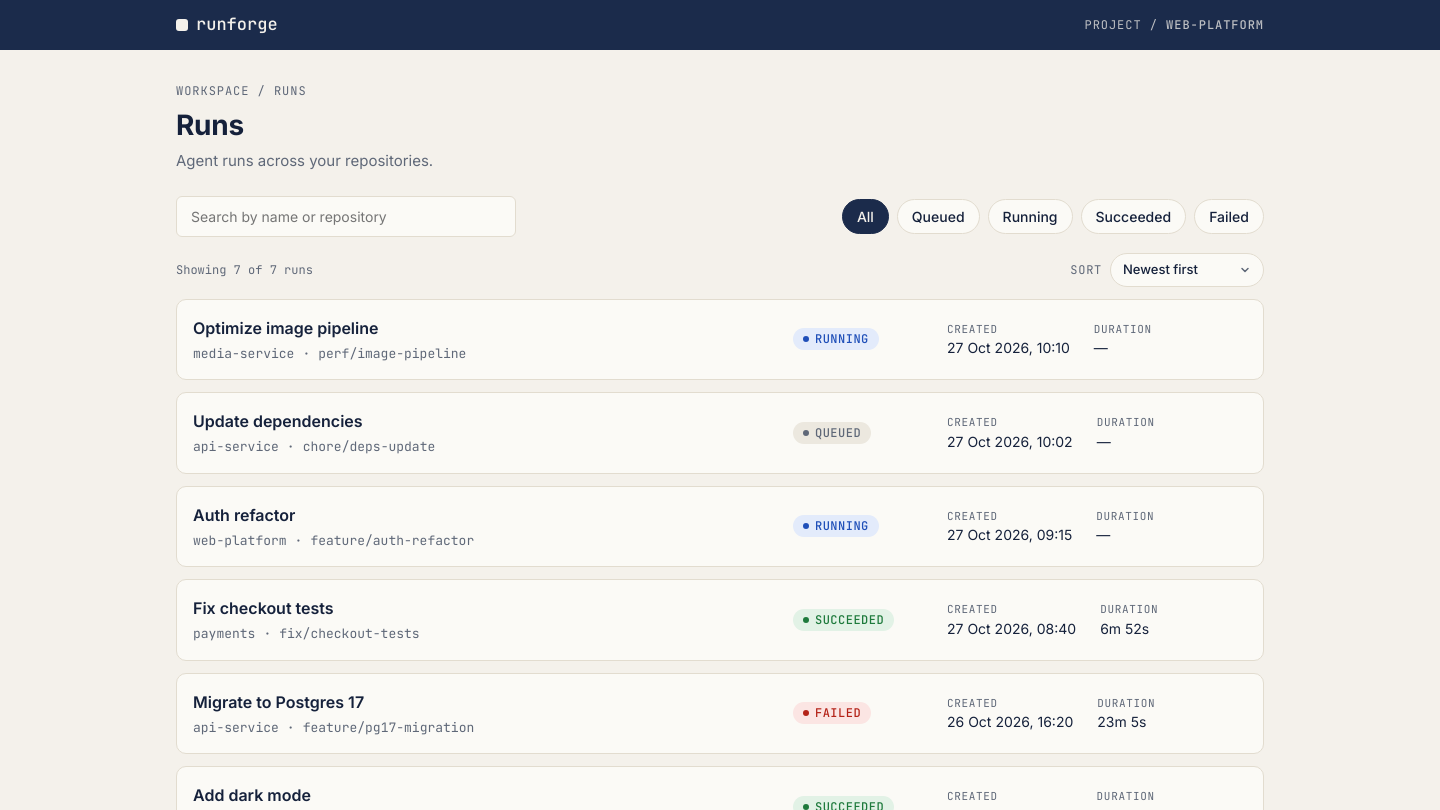
Runs page › combines search with status filter and shows empty state with reset
Expected: the link "Auth refactor" is shown, x1=193 y1=504 x2=295 y2=524
Click the button "Queued" at (938, 216), box x1=897 y1=199 x2=980 y2=234
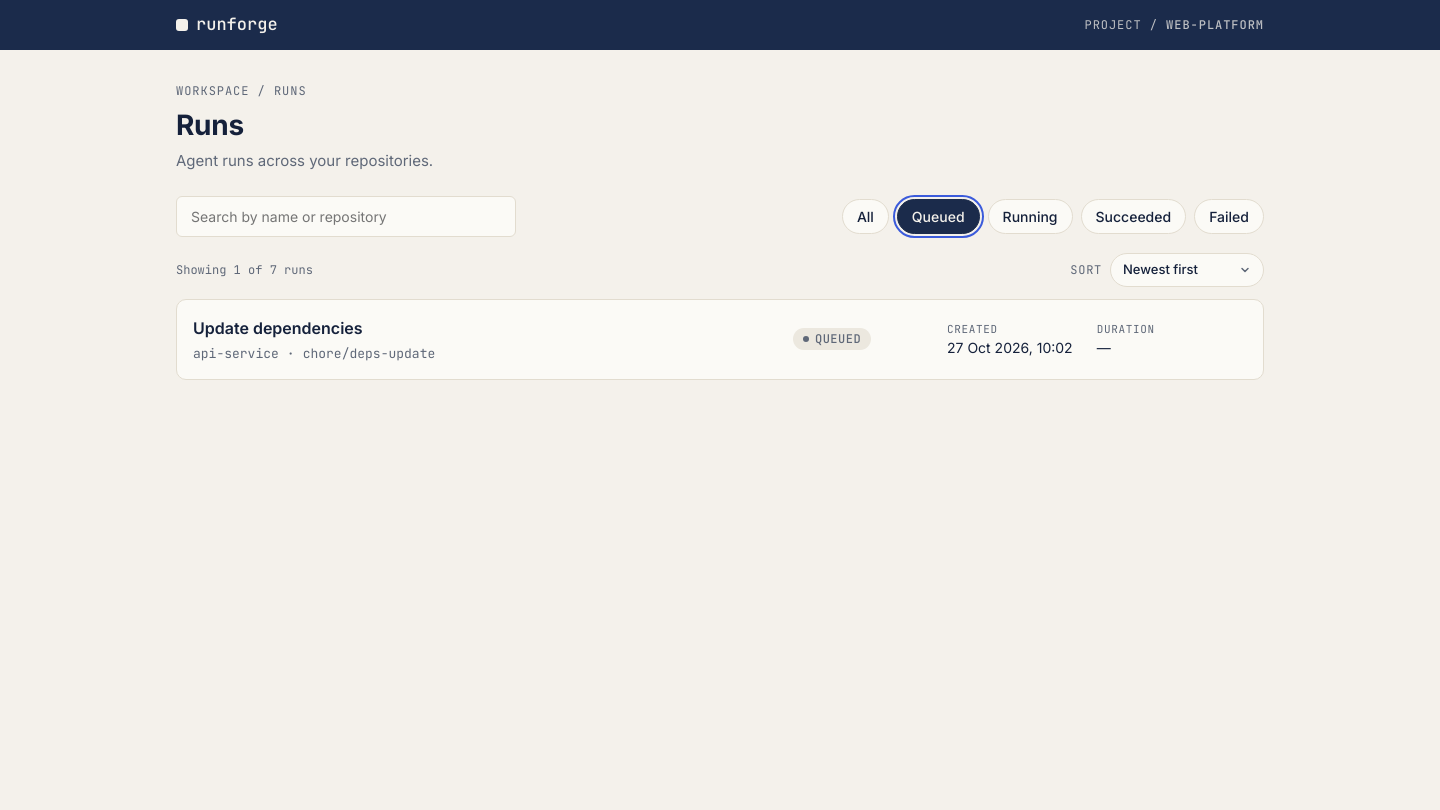
Type "payments" into the search field at (346, 216), box x1=176 y1=196 x2=516 y2=237
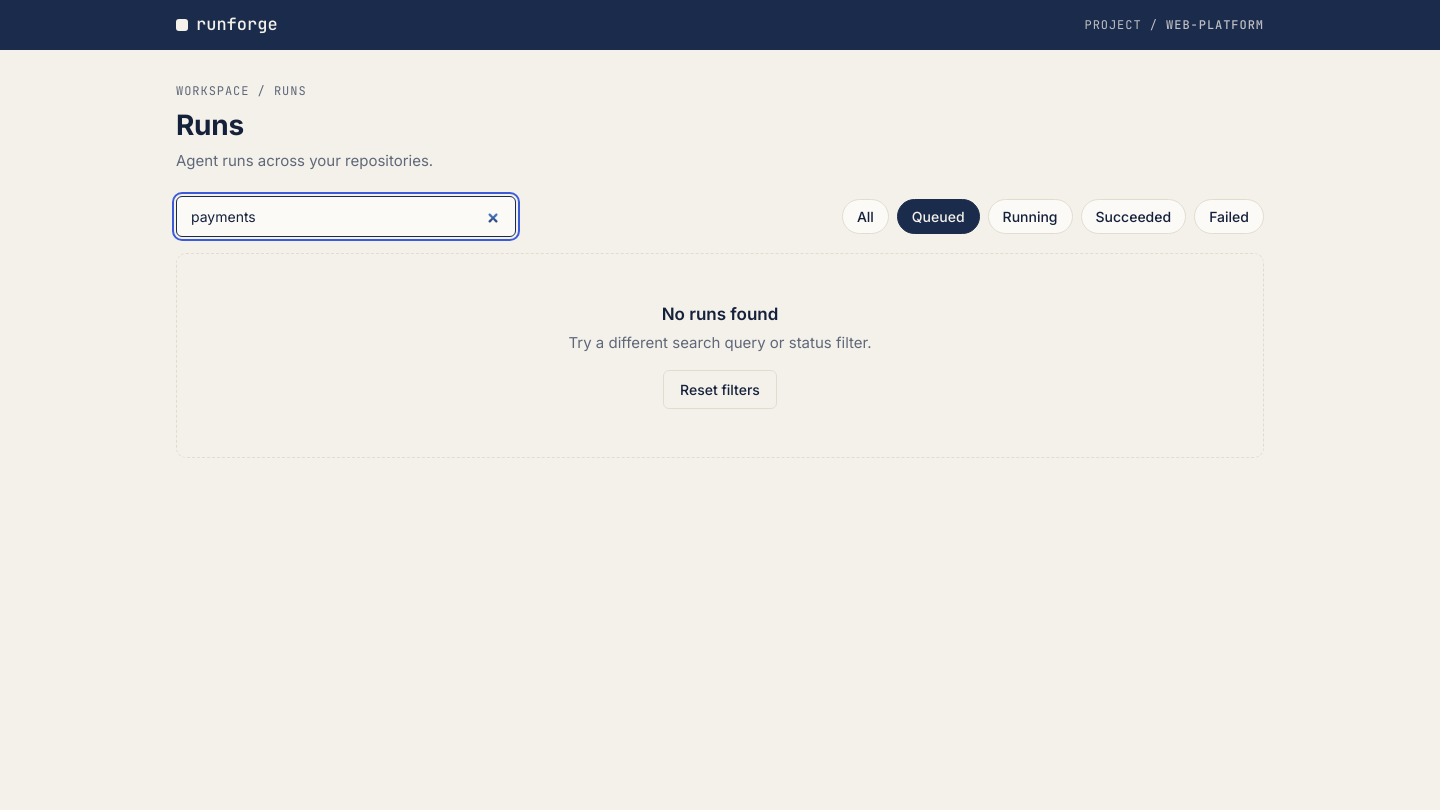
Expected: the text "No runs found" is shown, x1=662 y1=304 x2=778 y2=324
Click the button "Reset filters" at (720, 390), box x1=663 y1=370 x2=777 y2=409
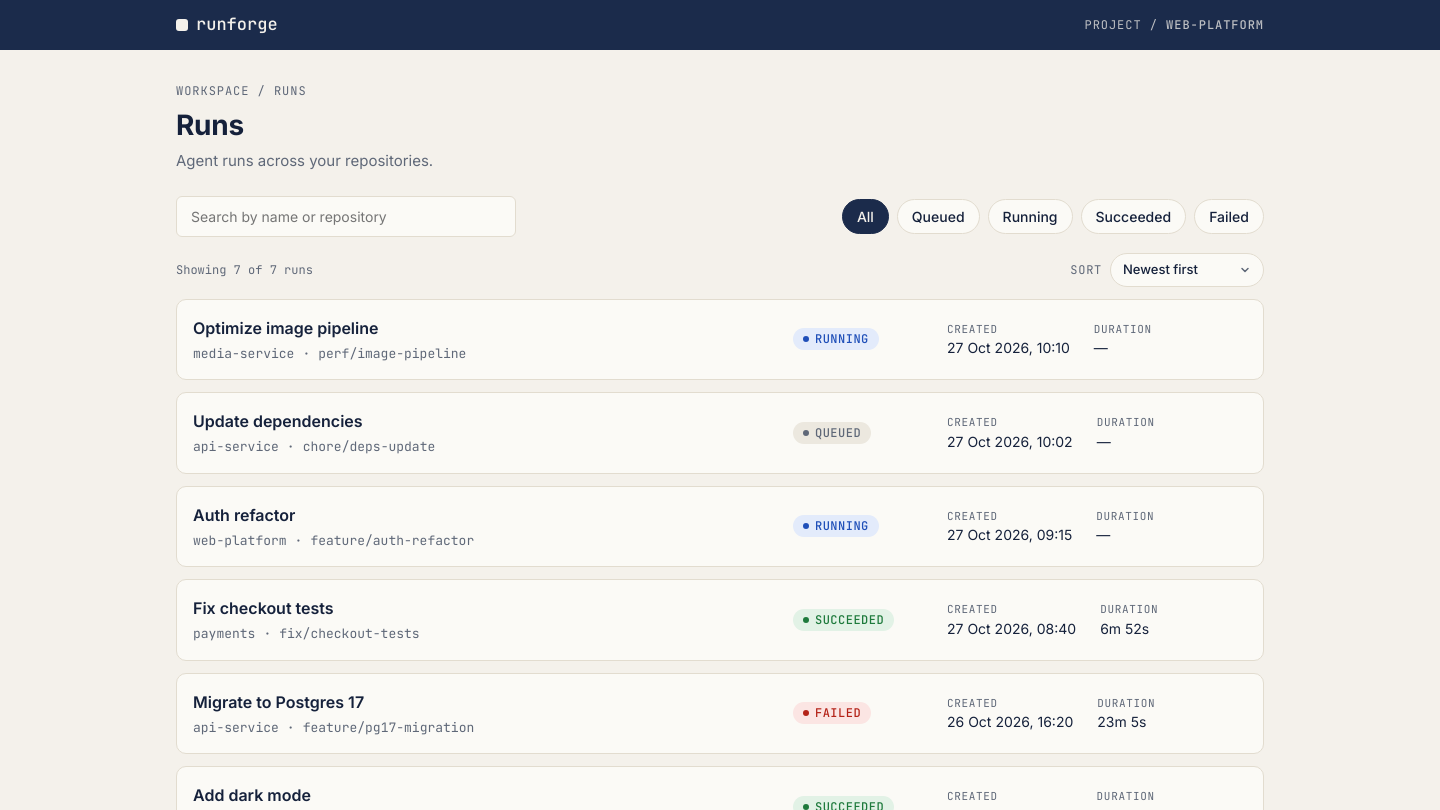
Expected: the number of list items is 7
Expected: the search field is empty, x1=176 y1=196 x2=516 y2=237
